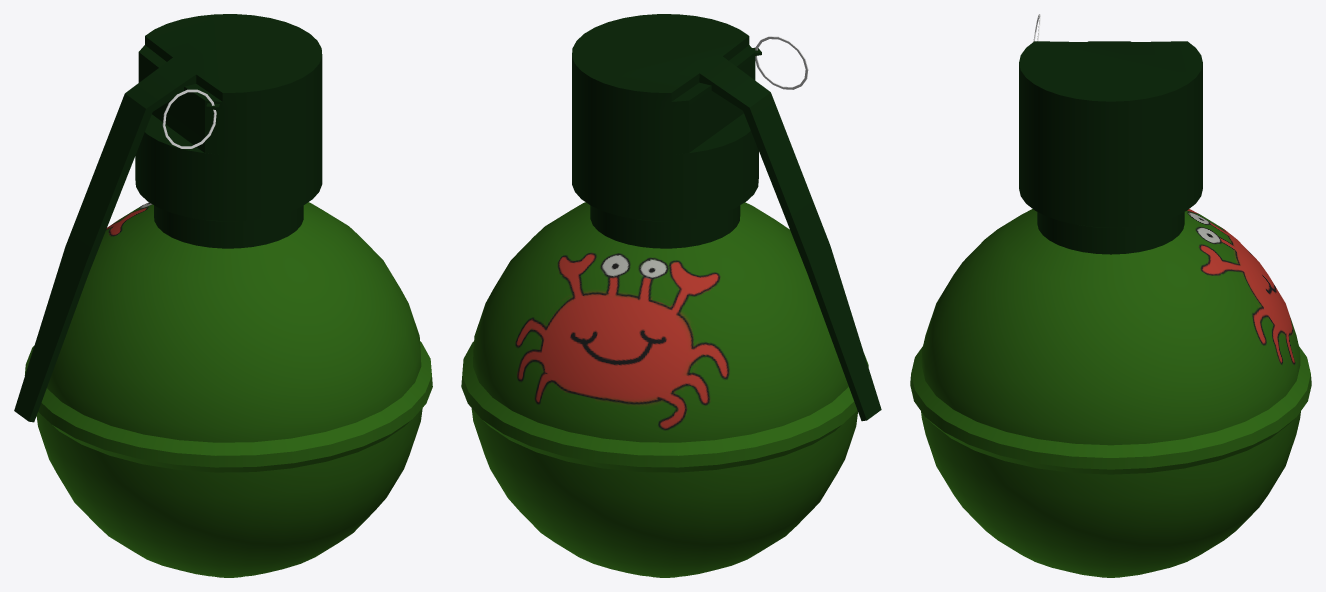
The model's file is Grenade.fbx.
The picture shows the model from 3 angles, left to right: view 1: azimuth 30°, elevation 25°; view 2: azimuth 150°, elevation 25°; view 3: azimuth 270°, elevation 25°; orthographic projection.
Parts seen in each view (by area): view 1: Sphere.001, Circle; view 2: Sphere.001; view 3: Sphere.001.
Part boxes in pixels (x1,y1,x2,y2): Sphere.001: (14, 14, 432, 577); Circle: (162, 89, 216, 148); Sphere.001: (461, 14, 881, 577); Sphere.001: (910, 41, 1311, 577).
Size of the model in its own units: 2.27 by 2.91 by 2.08.
Materials: 2 (1 with a texture image).
